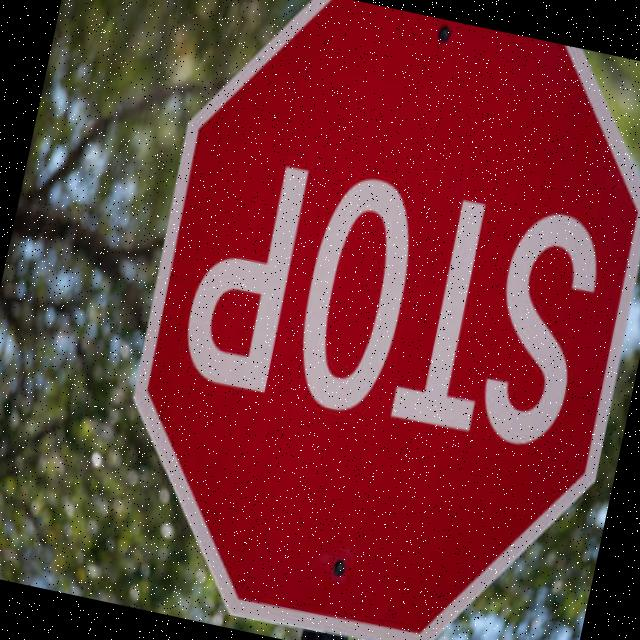stop: (85, 0, 640, 640)
